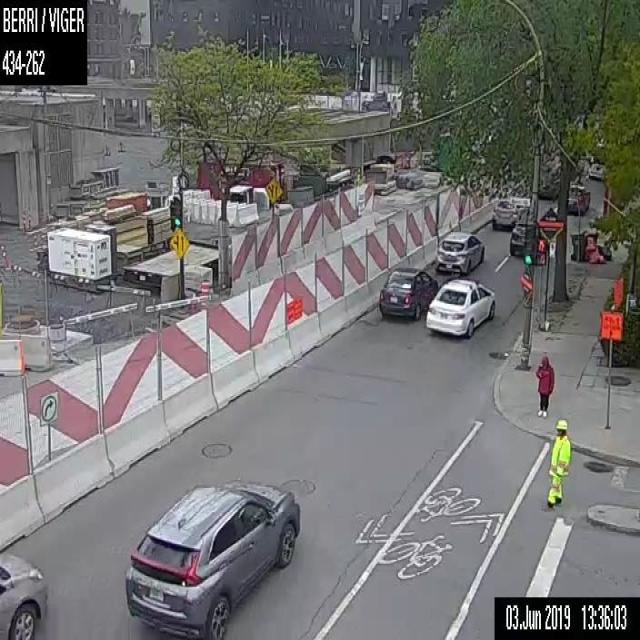construction: (0, 76, 550, 548), (598, 310, 624, 430), (199, 280, 210, 306)
pedestrian: (542, 418, 573, 514), (536, 353, 554, 418)
vehicle: (122, 477, 300, 639), (426, 277, 496, 339), (0, 549, 44, 639), (378, 266, 438, 320), (434, 228, 484, 274), (509, 218, 549, 259), (491, 196, 517, 229), (568, 181, 590, 215), (536, 162, 556, 198), (586, 160, 604, 180)
